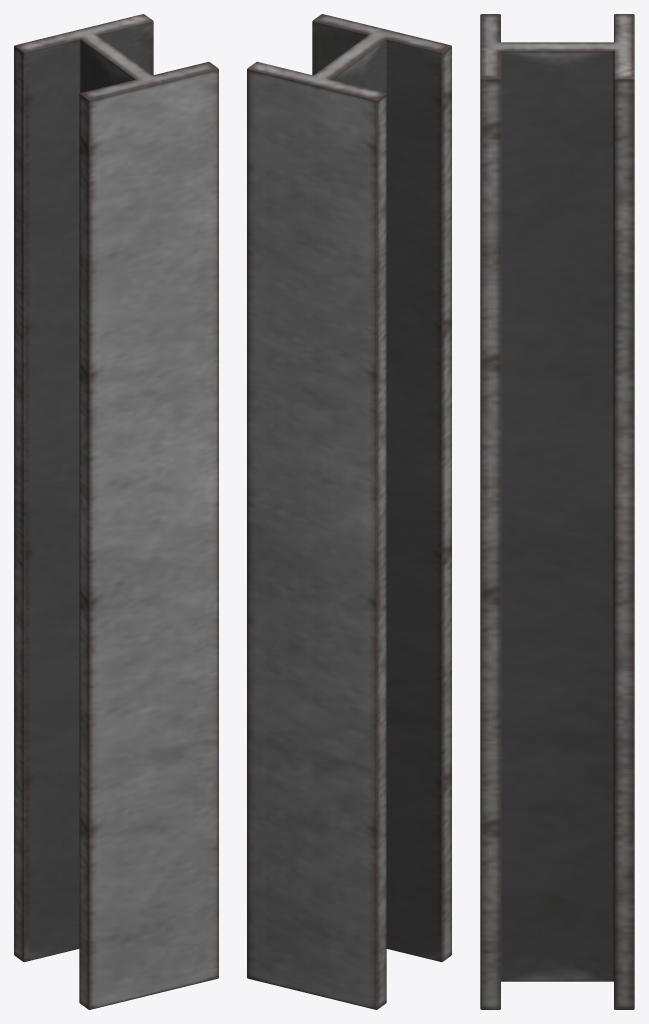
The model's file is Profile1_g.gltf.
3 renders of one model, left to right at view 1: azimuth 30°, elevation 25°; view 2: azimuth 150°, elevation 25°; view 3: azimuth 270°, elevation 25°, orthographic. The views are drawn at different scales.
Parts seen in each view (by area): view 1: Wide_Flange001; view 2: Wide_Flange001; view 3: Wide_Flange001.
Boxes of the visible parts, x1,y1,x2,y2 form: Wide_Flange001: [14, 14, 218, 1009]; Wide_Flange001: [247, 14, 451, 1009]; Wide_Flange001: [480, 14, 634, 1009].
Size of the model in its own units: 0.15 by 1 by 0.15.
Materials: 1 (1 with a texture image).
